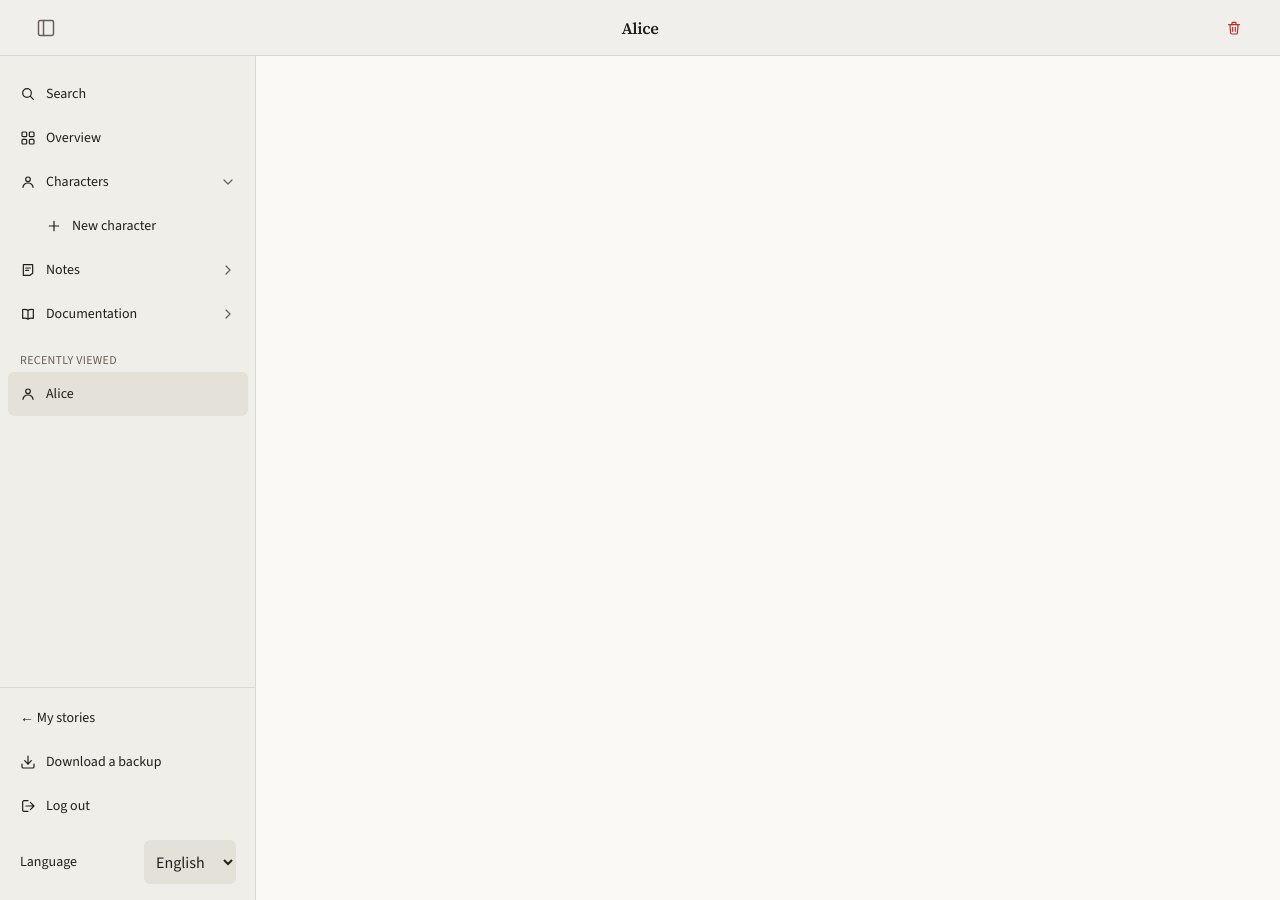
Test case: CharacterEditPage › shows the character name in the title bar instead of the story title, live as it is edited
Type " Doe" into the field with test id "story-title" at (640, 28), box [80, 6, 1200, 50]
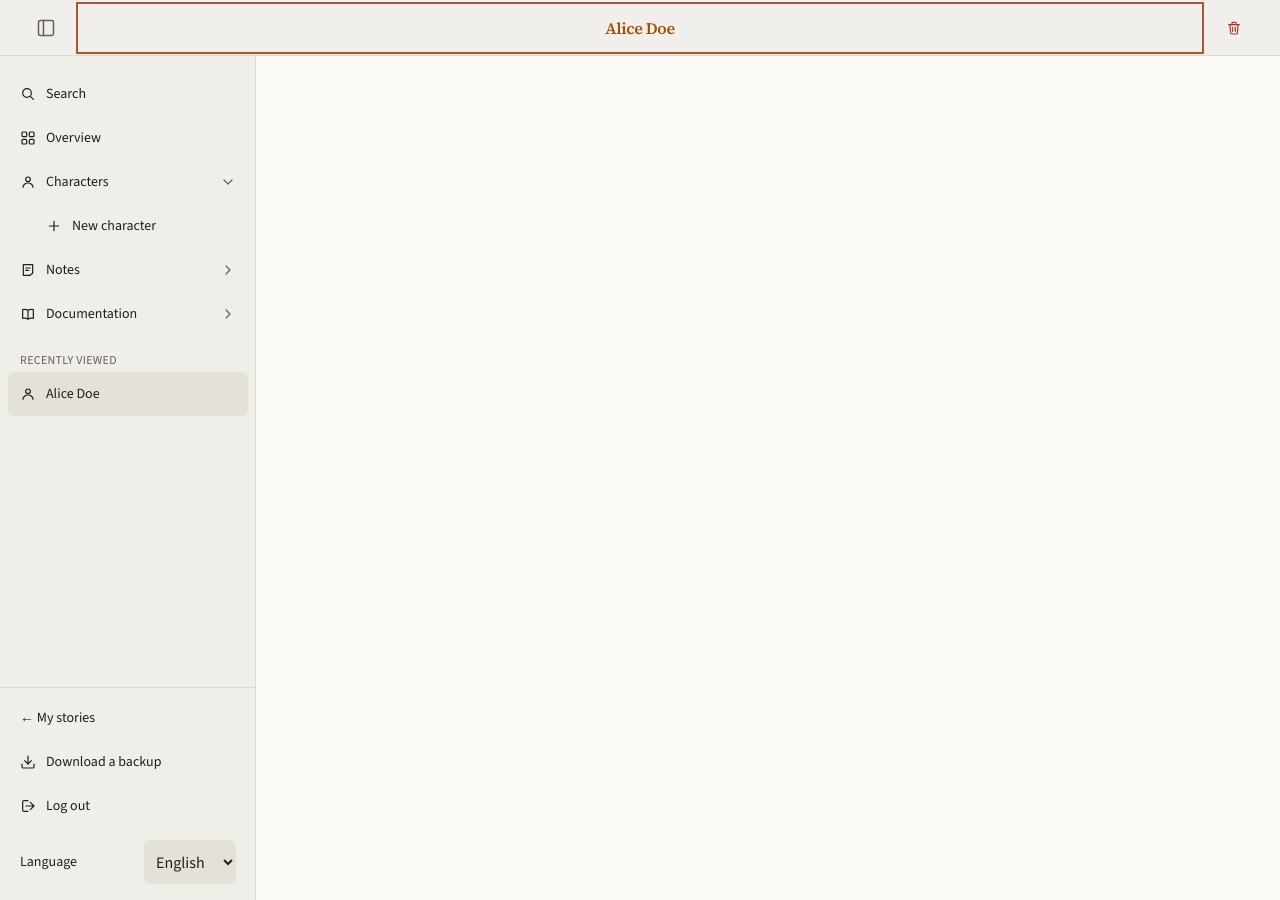
Now the field with test id "story-title" holds "Alice Doe", box [80, 6, 1200, 50]
